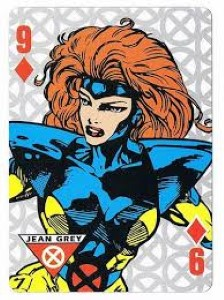NineOfDiamonds: (7, 2, 211, 293)
